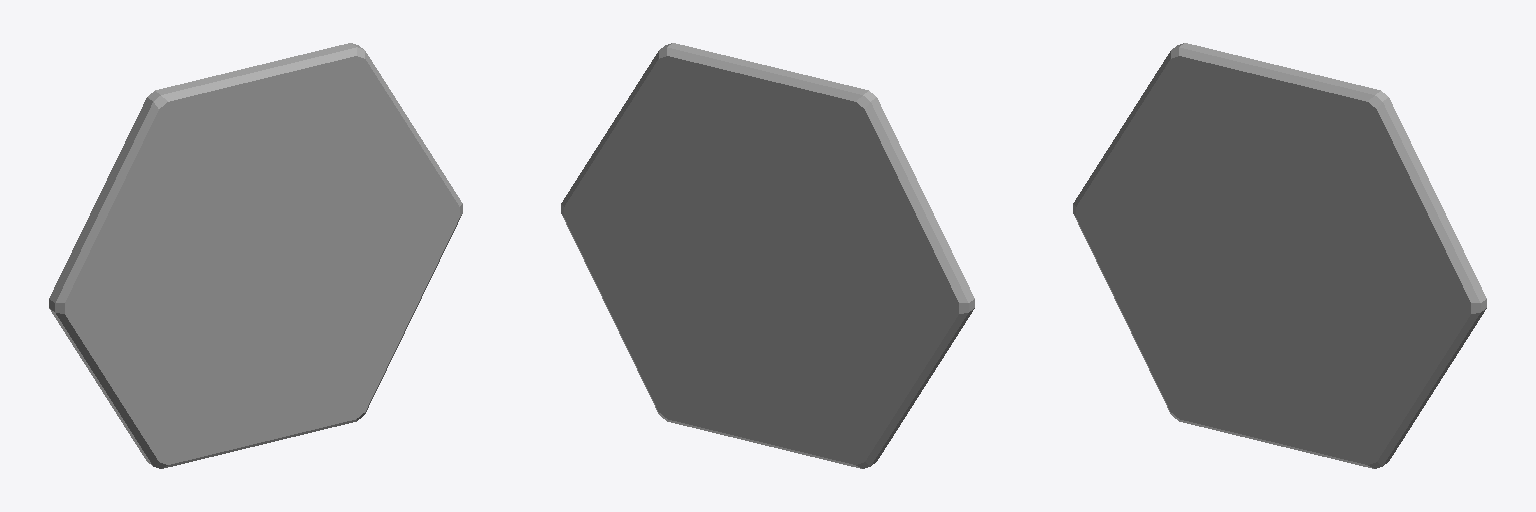
Rendered from hex.obj.
3 views of the same model, side by side, from view 1: azimuth 30°, elevation 25°; view 2: azimuth 150°, elevation 25°; view 3: azimuth 330°, elevation 25° (orthographic).
Visible parts, largest first — view 1: Cylinder_Cylinder; view 2: Cylinder_Cylinder; view 3: Cylinder_Cylinder.
Boxes of the visible parts, x1,y1,x2,y2 form: Cylinder_Cylinder: [49, 43, 462, 468]; Cylinder_Cylinder: [561, 43, 974, 468]; Cylinder_Cylinder: [1073, 43, 1486, 468].
Bounding box in the file's own units: 1.88 × 1.65 × 0.1.